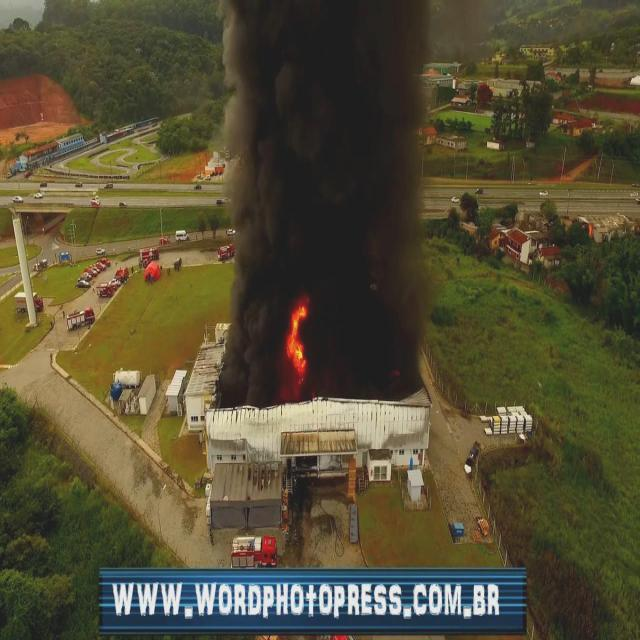Fire: (278, 290, 312, 406), (389, 364, 402, 382)
Smoke: (313, 0, 387, 394), (212, 0, 276, 404), (389, 0, 447, 357), (276, 1, 312, 289), (409, 364, 430, 396)
